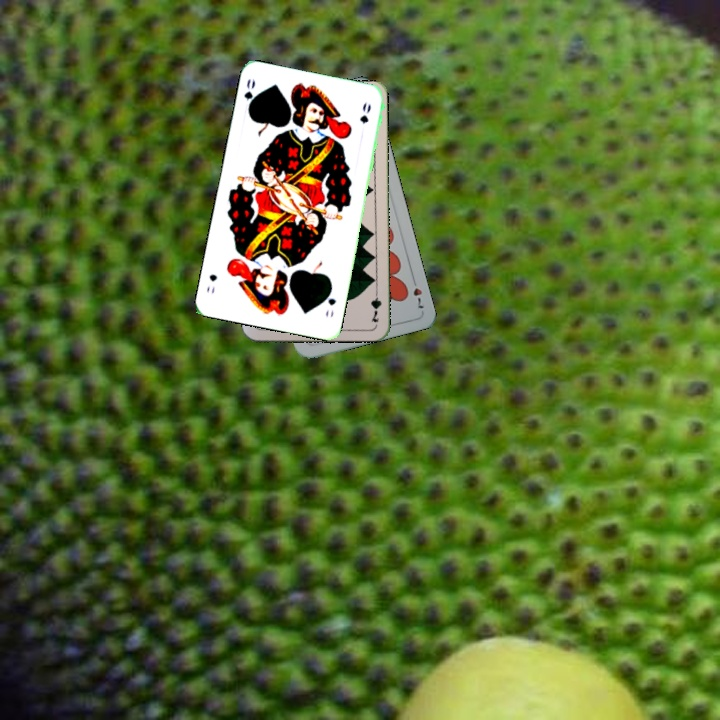G7: (367, 284, 384, 325)
GO: (240, 74, 260, 116), (321, 283, 339, 320)
H7: (408, 273, 426, 311)
